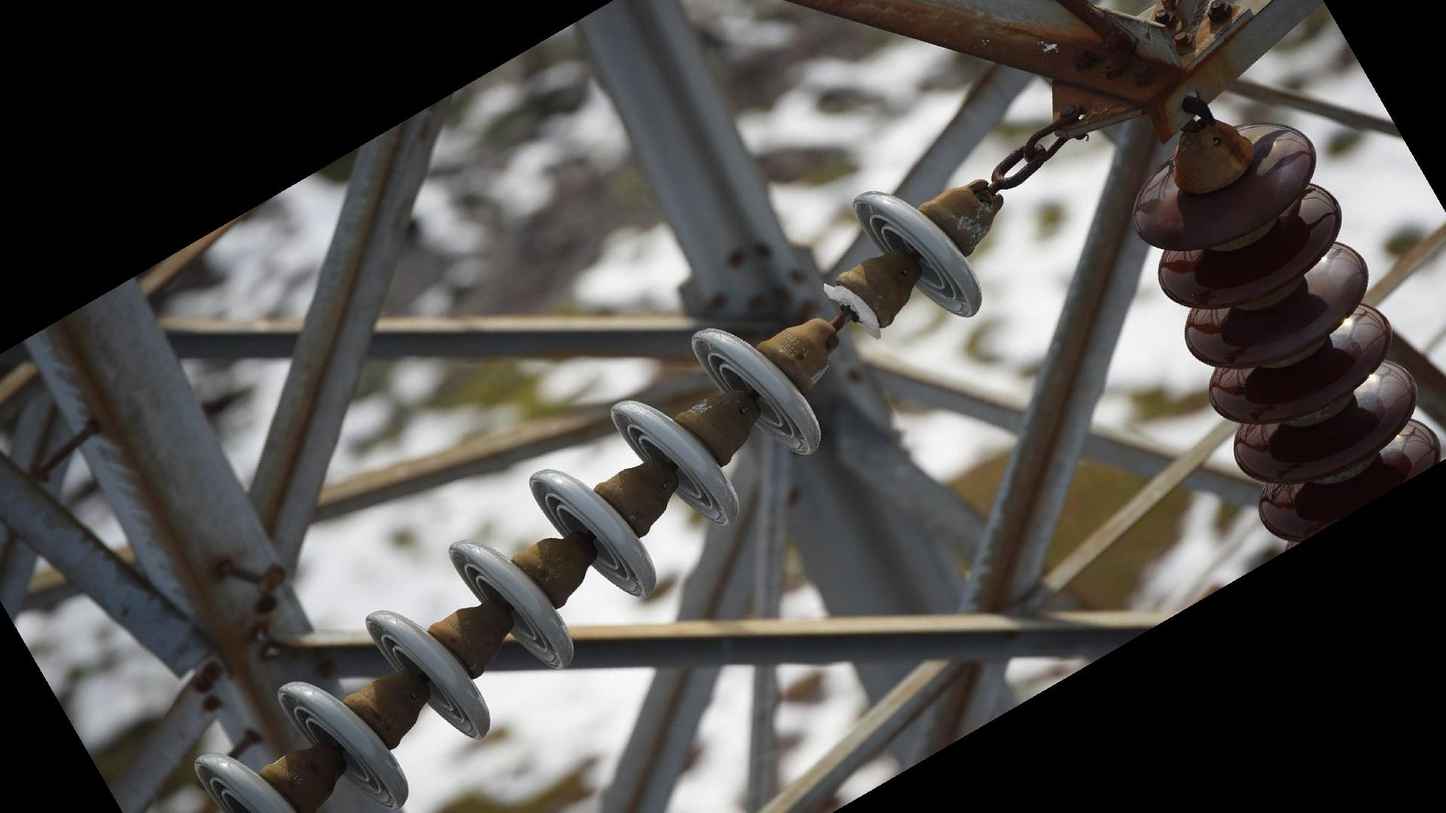insulator: (188, 182, 990, 813), (1122, 113, 1446, 547)
insulator_breakage: (811, 276, 889, 345)
